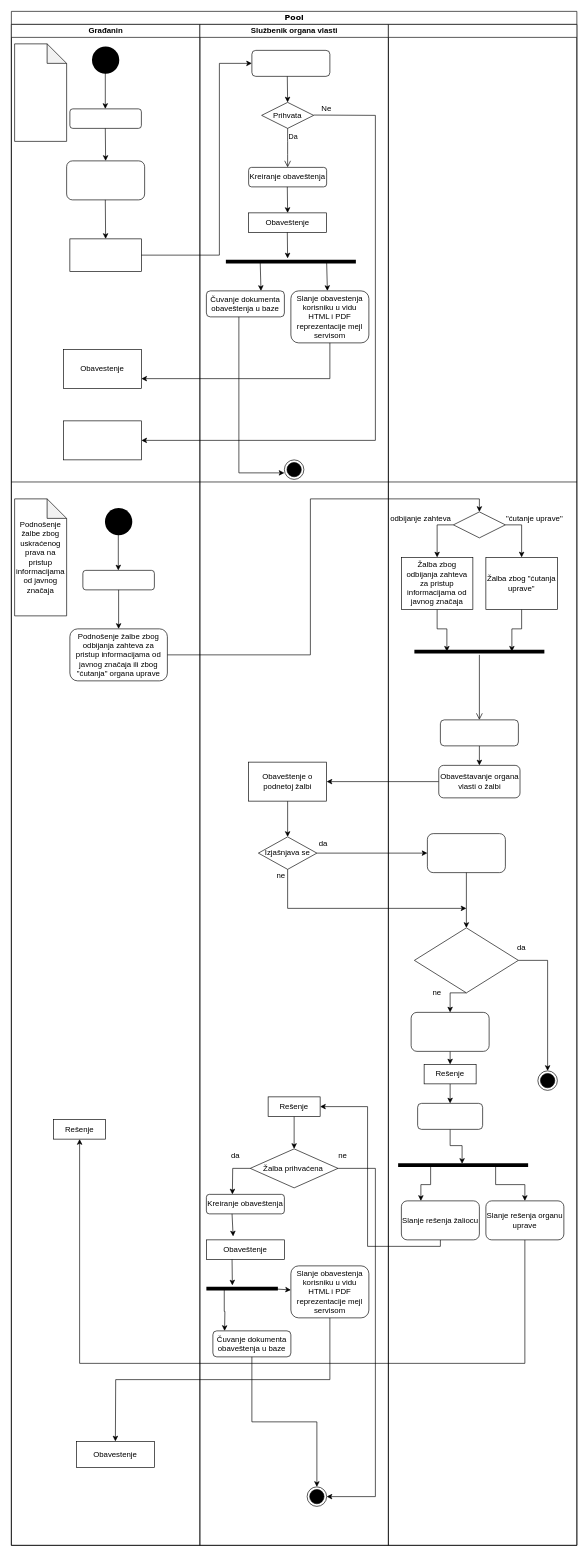
Some shapes in this 588 by 1557 pixel diagram are drawn without their labels. Here are the shapes that lost their labels. From the top down, the box of each, then its label:
(251, 50, 330, 76): Čuvanje zahteva u baze
(14, 43, 67, 141): Podnosenje zahteva za pristup informacijama od javnog značaja
(69, 108, 141, 128): Registracija
(66, 160, 145, 200): Podnošenje zahteva za pristup informacijama od javnog značaja
(69, 238, 141, 271): Zahtev za pristup informacijama od javnog značaja
(63, 420, 141, 460): Obavestenje o odbijanju zahteva
(453, 511, 505, 538): Razlog
(82, 570, 154, 590): Prijava na sistem
(440, 719, 518, 746): Čuvanje žalbe u baze
(388, 24, 577, 1545): Poverenik za informacije od javnog značaja
(427, 833, 505, 873): Razmatranje odgovora organa uprave na žalbu
(414, 927, 518, 993): Korisnik odustao od žalbe/pristup odobren
(410, 1012, 489, 1051): Formiranje rešenja po žalbi građanina
(417, 1103, 483, 1129): Čuvanje rešenja u baze
